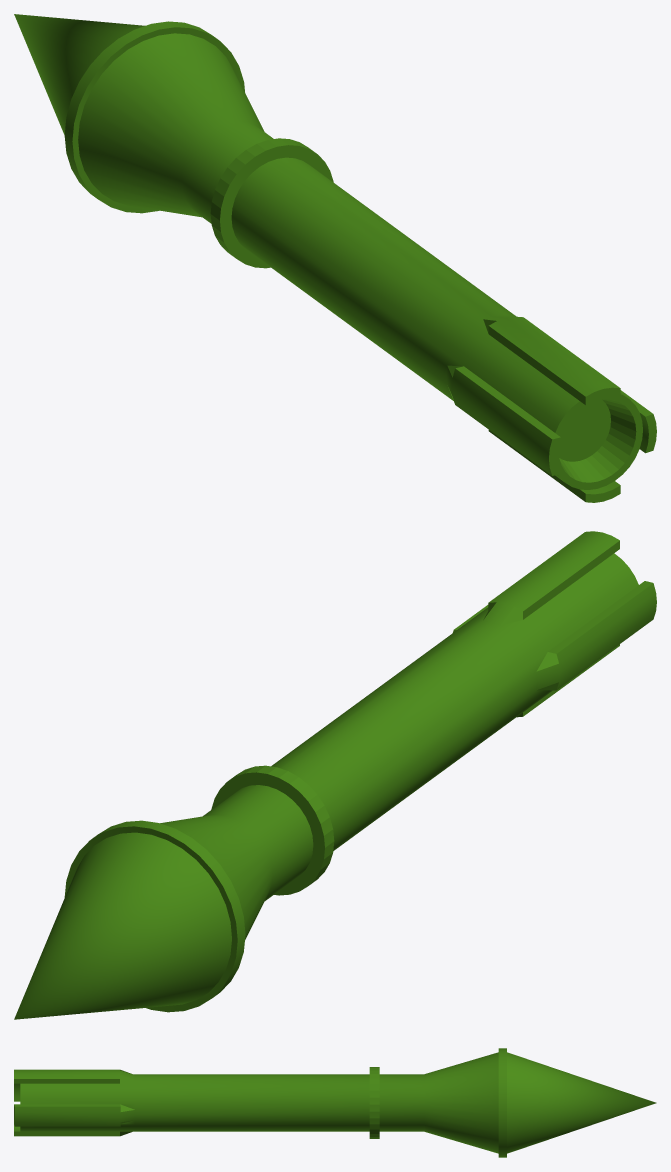
Rendered from raketa2.fbx.
The picture shows the model from 3 angles, top to bottom: view 1: azimuth 30°, elevation 25°; view 2: azimuth 150°, elevation 25°; view 3: azimuth 270°, elevation 25°; orthographic projection. The views are drawn at different scales.
Parts seen in each view (by area): view 1: Cylinder; view 2: Cylinder; view 3: Cylinder.
Boxes of the visible parts, x1=… form: Cylinder: x1=14, y1=14, x2=656, y2=502; Cylinder: x1=14, y1=531, x2=656, y2=1019; Cylinder: x1=14, y1=1048, x2=656, y2=1157.
Bounding box in the file's own units: 0.7403 × 0.7403 × 4.36.
